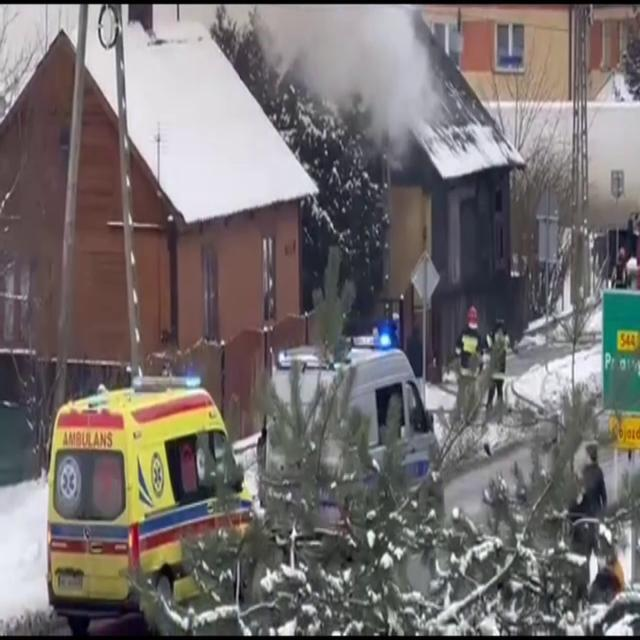Smoke: (235, 1, 448, 159)
